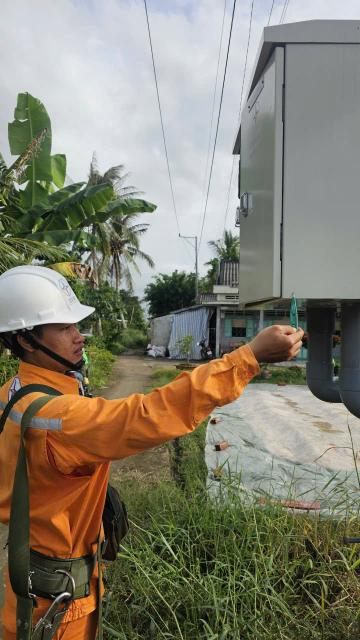harness: (0, 538, 126, 619)
helmet: (0, 238, 102, 341)
